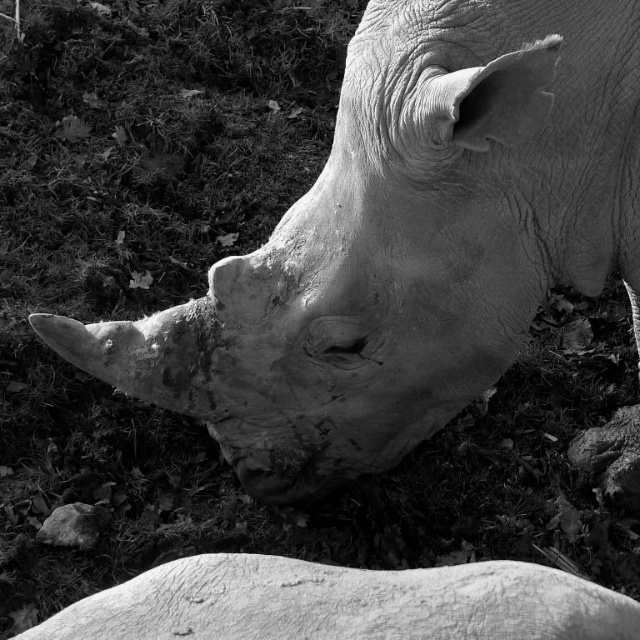Rhinoceros: (28, 0, 640, 506)
